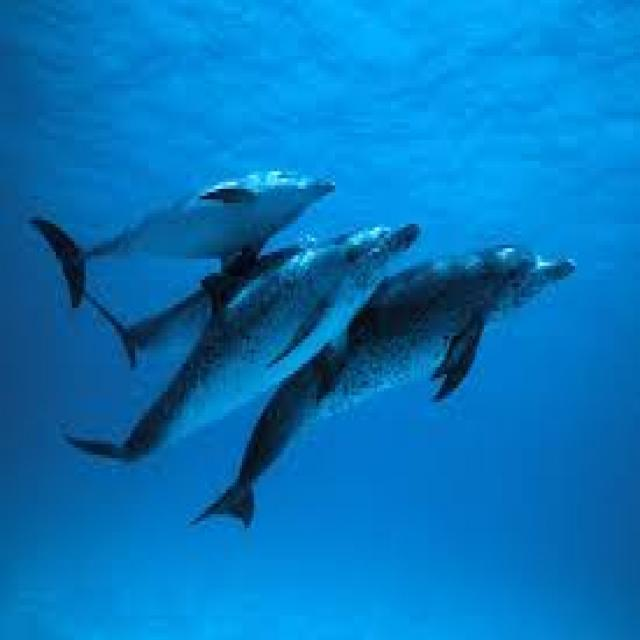dolphin: (247, 206, 577, 574), (86, 206, 417, 504), (30, 98, 340, 269)
